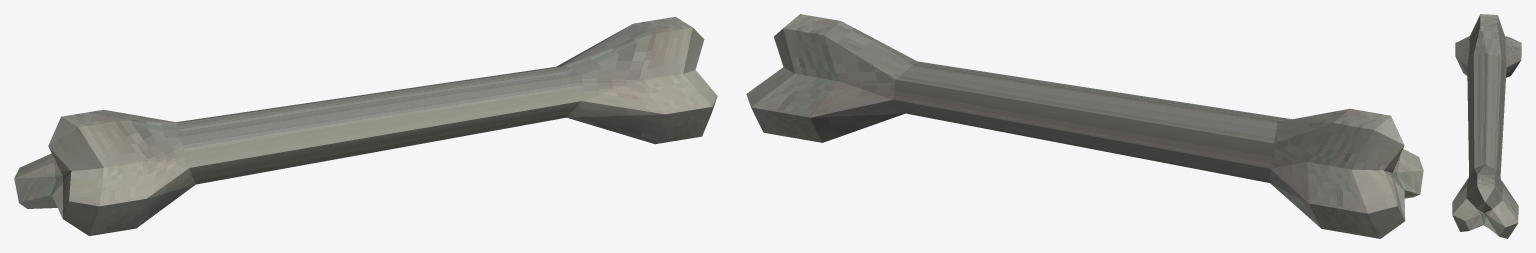
File: point5.obj
3 renders of one model, left to right at view 1: azimuth 30°, elevation 25°; view 2: azimuth 150°, elevation 25°; view 3: azimuth 270°, elevation 25°, orthographic. The views are drawn at different scales.
Visible parts, largest first — view 1: Object_BoneSS00_jpg; view 2: Object_BoneSS00_jpg; view 3: Object_BoneSS00_jpg.
Part boxes in pixels (x1,y1,x2,y2): Object_BoneSS00_jpg: (14, 17, 717, 235); Object_BoneSS00_jpg: (746, 14, 1423, 238); Object_BoneSS00_jpg: (1452, 14, 1521, 238).
Bounding box in the file's own units: 1.6 × 0.336 × 0.2857.
1 material, 1 textured.
